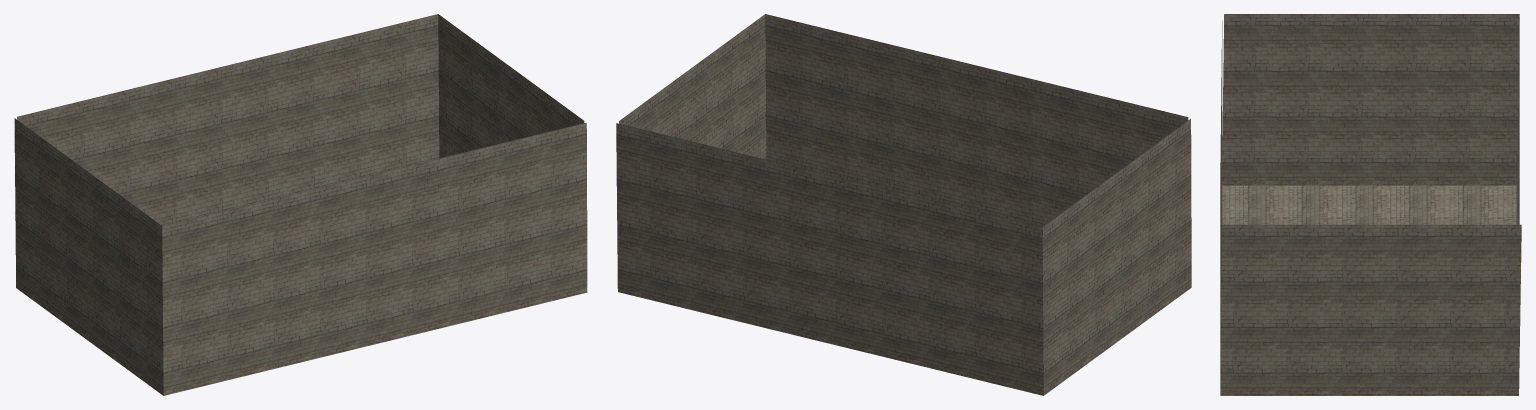
The model's file is Sponza.gltf.
3 renders of one model, left to right at view 1: azimuth 30°, elevation 25°; view 2: azimuth 150°, elevation 25°; view 3: azimuth 270°, elevation 25°, orthographic.
Visible parts, largest first — view 1: Mesh_0; view 2: Mesh_0; view 3: Mesh_0.
Boxes of the visible parts, x1,y1,x2,y2 form: Mesh_0: (14, 14, 587, 395); Mesh_0: (616, 14, 1191, 395); Mesh_0: (1220, 14, 1521, 395).
Size of the model in its own units: 28.91 by 11.11 by 17.55.
16 materials, 16 textured.
